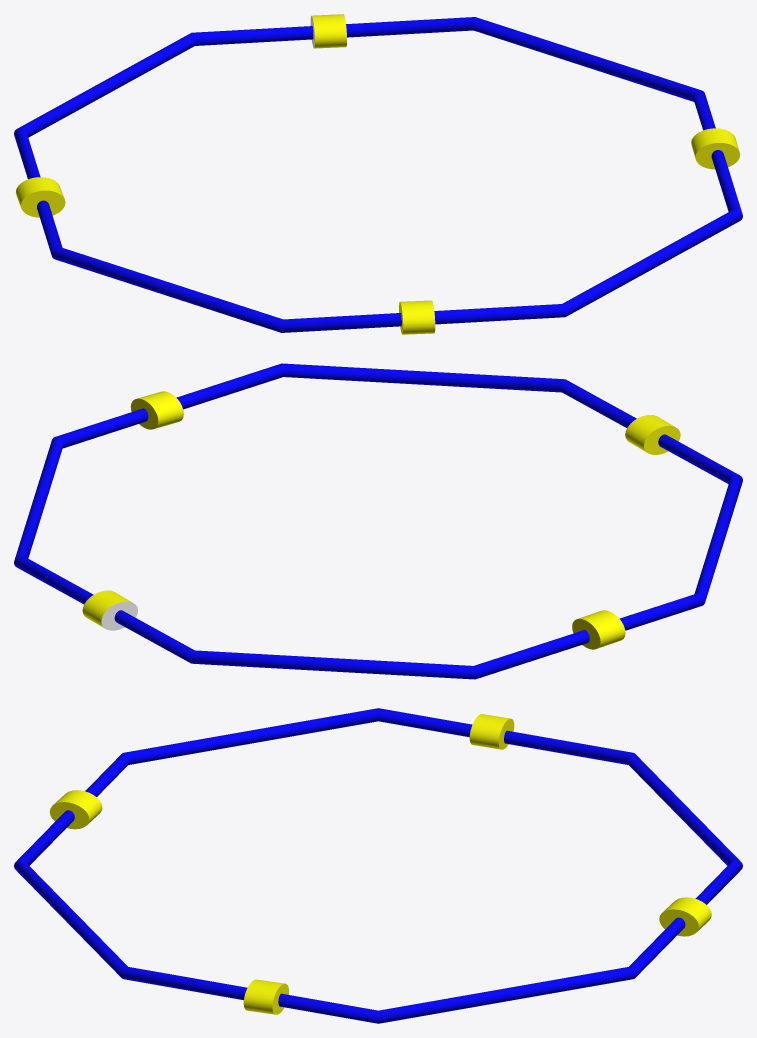
File: delivery.dae
3 renders of one model, top to bottom at view 1: azimuth 30°, elevation 25°; view 2: azimuth 150°, elevation 25°; view 3: azimuth 270°, elevation 25°, orthographic. The views are drawn at different scales.
Parts seen in each view (by area): view 1: SketchUp, SketchUp_004, SketchUp_005, SketchUp_003, SketchUp_001; view 2: SketchUp, SketchUp_005, SketchUp_003, SketchUp_004, SketchUp_001, SketchUp_002; view 3: SketchUp, SketchUp_003, SketchUp_001, SketchUp_004, SketchUp_005.
Boxes of the visible parts, x1,y1,x2,y2 form: SketchUp: (14,17,742,332); SketchUp_004: (691,128,739,169); SketchUp_005: (16,177,65,217); SketchUp_003: (399,300,435,334); SketchUp_001: (312,14,346,48); SketchUp: (14,363,742,679); SketchUp_005: (572,610,625,649); SketchUp_003: (625,415,680,454); SketchUp_004: (130,391,183,429); SketchUp_001: (82,590,131,627); SketchUp_002: (101,601,137,630); SketchUp: (14,708,742,1023); SketchUp_003: (49,790,102,829); SketchUp_001: (659,897,711,936); SketchUp_004: (243,979,288,1014); SketchUp_005: (469,714,514,749).
Size of the model in its own units: 5.5 by 5.5 by 0.2397.
